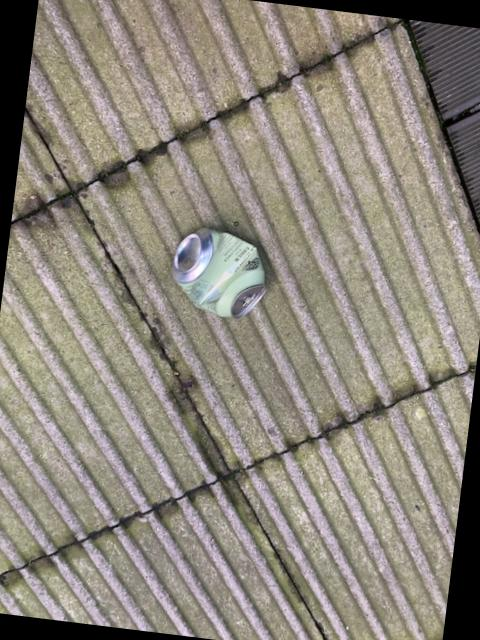metal: (173, 228, 266, 318)
